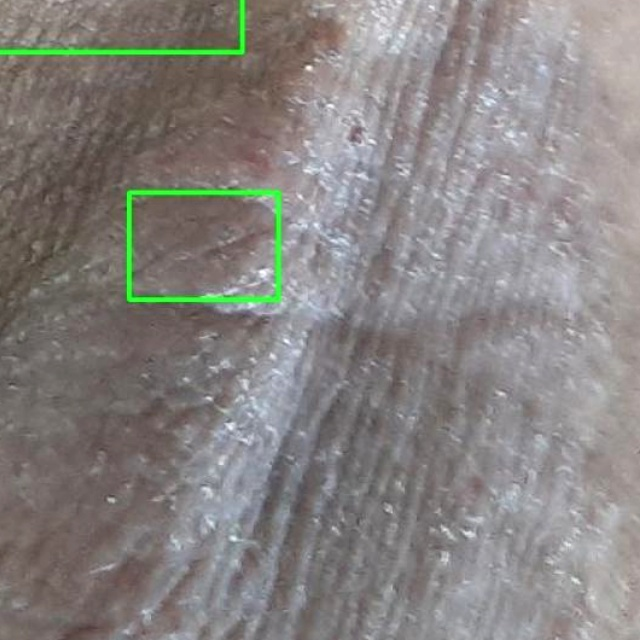Tinea Corporis: (129, 192, 278, 299)
